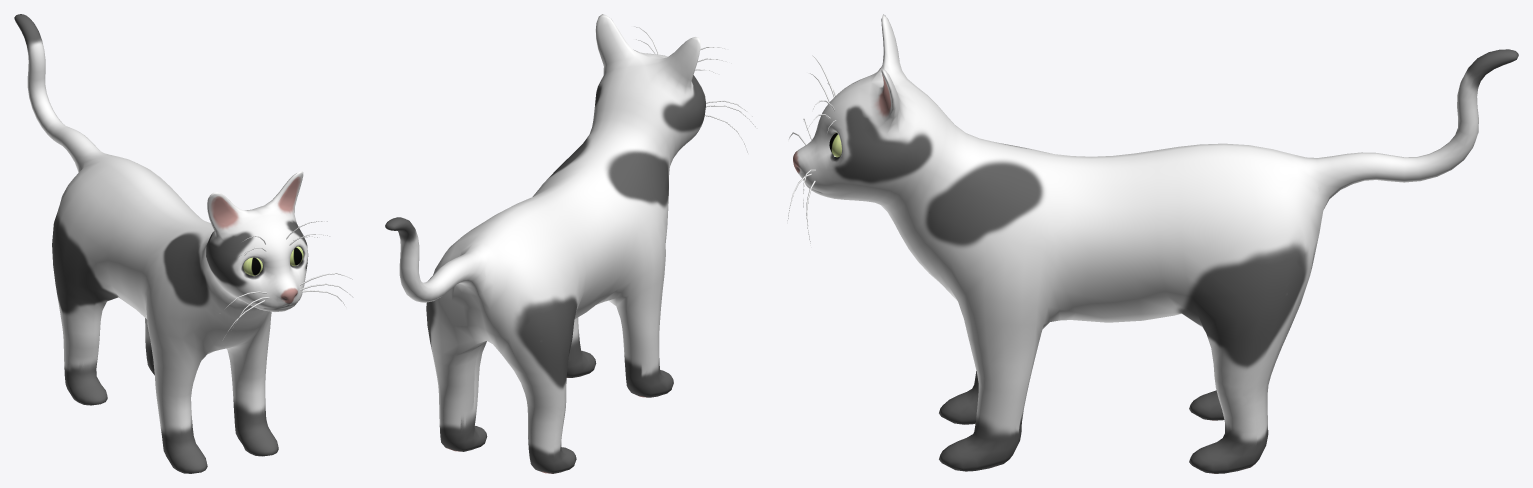
Rendered from Katze.fbx.
3 views of the same model, side by side, from view 1: azimuth 30°, elevation 25°; view 2: azimuth 150°, elevation 25°; view 3: azimuth 270°, elevation 25° (orthographic). The views are drawn at different scales.
Visible parts, largest first — view 1: Katze, Schnurhaar; view 2: Katze, Schnurhaar; view 3: Katze.
Boxes of the visible parts, box(x1,y1,x2,y2) form: Katze: box(14, 14, 308, 473); Schnurhaar: box(224, 221, 353, 337); Katze: box(385, 14, 705, 473); Schnurhaar: box(634, 26, 755, 152); Katze: box(793, 14, 1518, 473).
Size of the model in its own units: 46.32 by 97.62 by 162.
